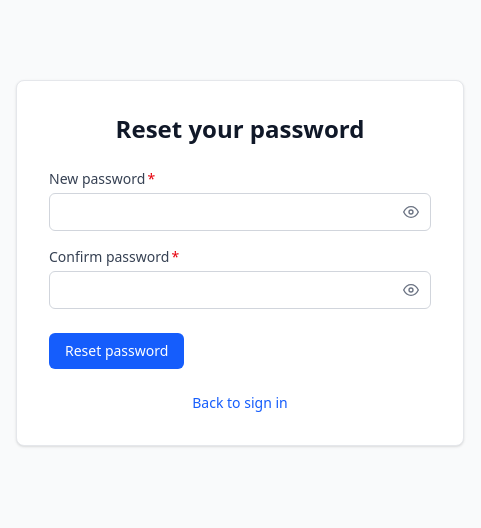
Test: ResetPasswordPage › displays inline validation errors on 422
Type "short" into the password field labelled "New password*" at (240, 212), box [49,193,431,231]
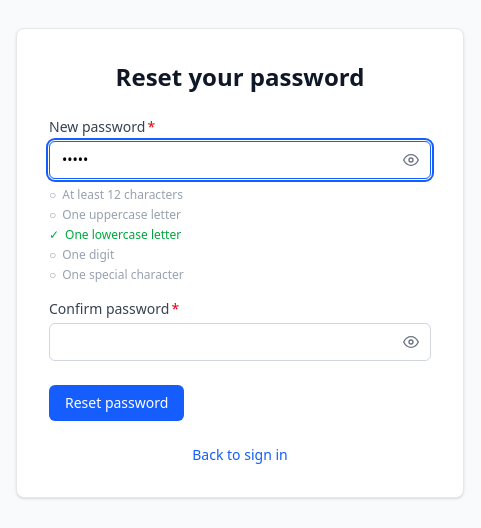
Click the button "Reset password" at (117, 403), box [49,385,184,421]
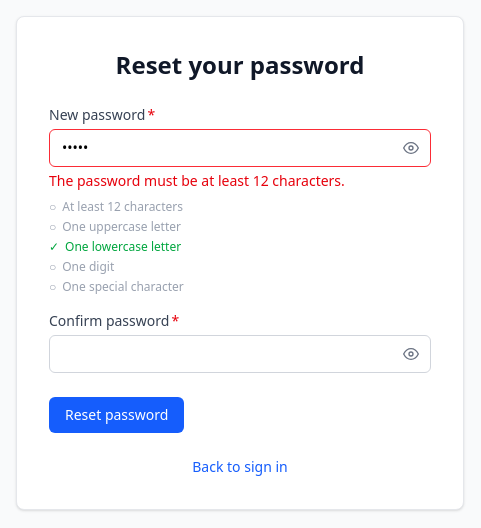
Now the text "The password must be at least 12 characters." is shown, box [49,171,345,190]
